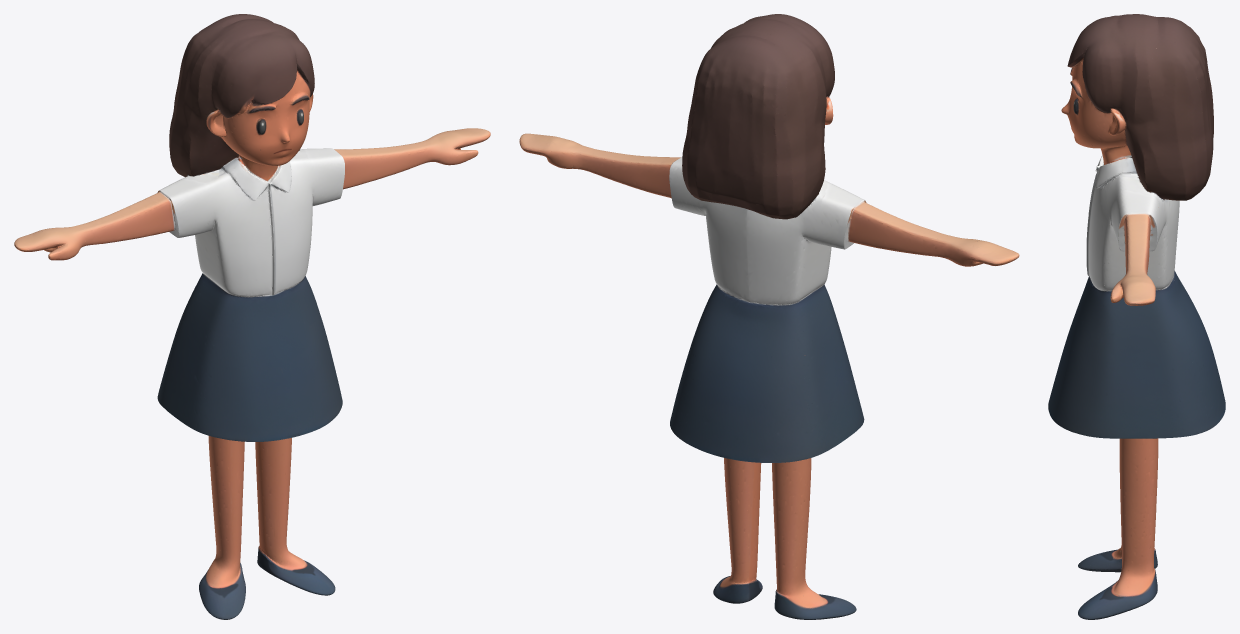
File: base_basic_pbr 1.fbx
3 views of the same model, side by side, from view 1: azimuth 30°, elevation 25°; view 2: azimuth 150°, elevation 25°; view 3: azimuth 270°, elevation 25° (orthographic). The views are drawn at different scales.
Parts seen in each view (by area): view 1: model; view 2: model; view 3: model.
Part boxes in pixels (box(x1,y1,x2,y2)): model: box(14, 14, 490, 619); model: box(519, 14, 1019, 619); model: box(1048, 14, 1225, 619).
Size of the model in its own units: 167 by 190 by 53.43.
Materials: 1 (1 with a texture image).
